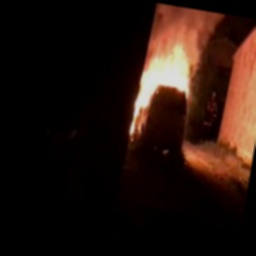fire: (122, 5, 221, 138)
